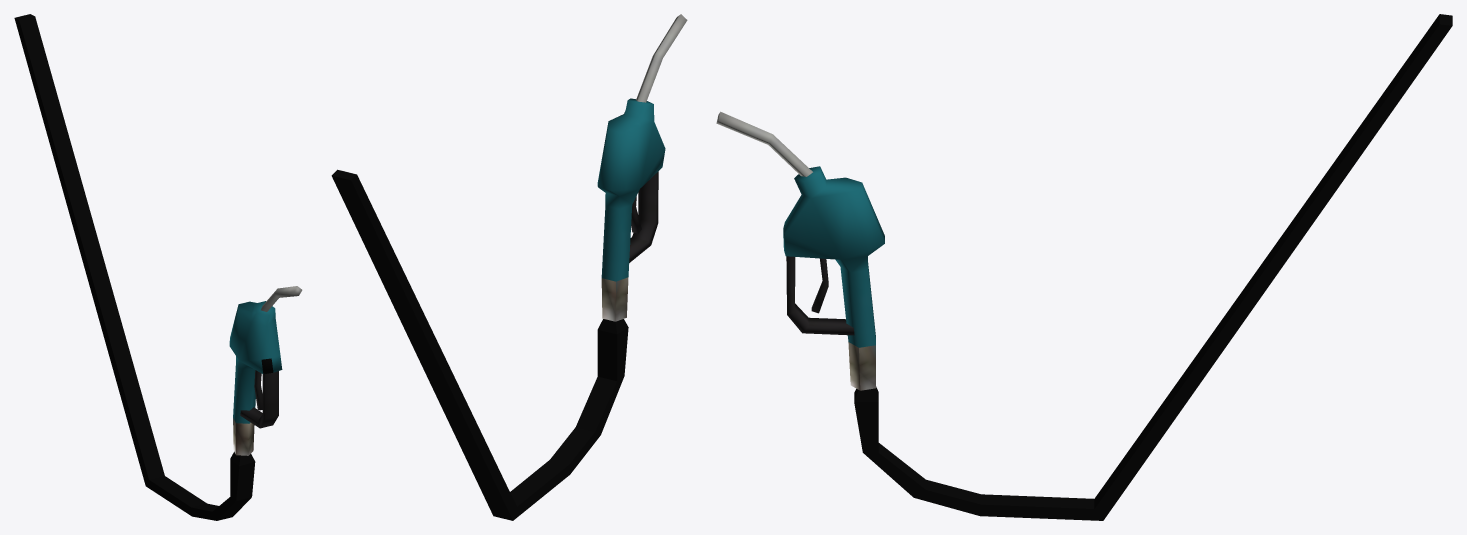
File: grab_offpump.obj
3 views of the same model, side by side, from view 1: azimuth 30°, elevation 25°; view 2: azimuth 150°, elevation 25°; view 3: azimuth 270°, elevation 25° (orthographic). The views are drawn at different scales.
Parts seen in each view (by area): view 1: Cube.003; view 2: Cube.003; view 3: Cube.003.
Boxes of the visible parts, x1=… form: Cube.003: x1=14, y1=14, x2=302, y2=520; Cube.003: x1=331, y1=14, x2=687, y2=520; Cube.003: x1=716, y1=14, x2=1452, y2=520.
Size of the model in its own units: 0.2215 by 3.22 by 4.33.
